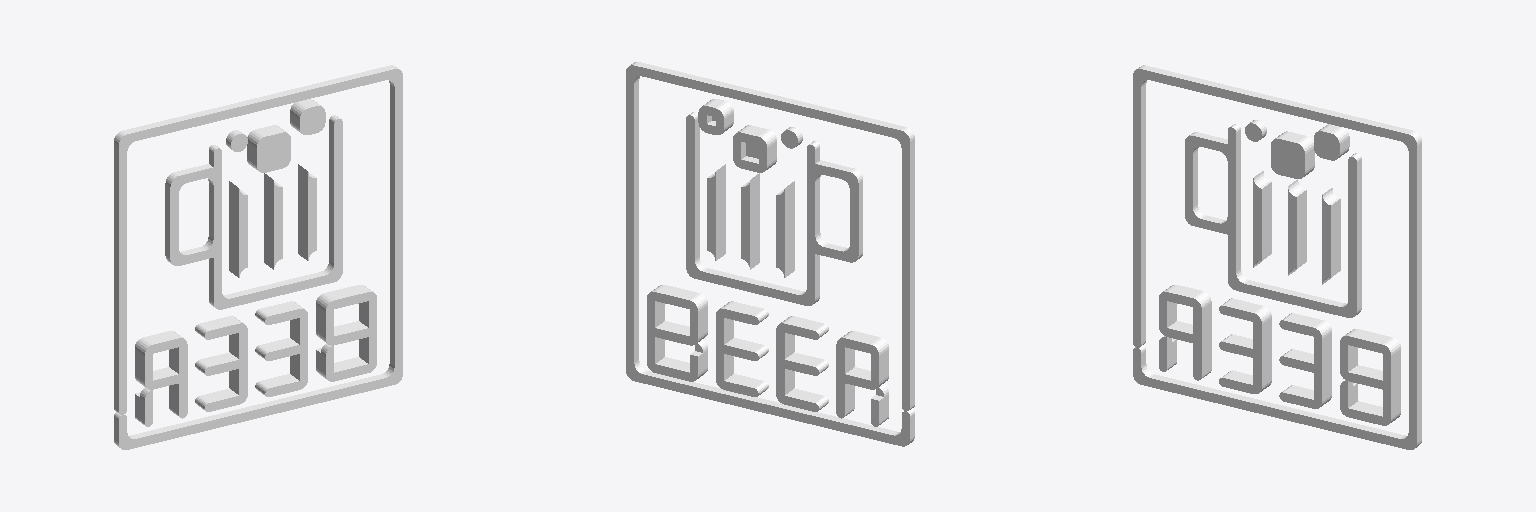
Rendered from Beer.obj.
3 renders of one model, left to right at view 1: azimuth 30°, elevation 25°; view 2: azimuth 150°, elevation 25°; view 3: azimuth 330°, elevation 25°, orthographic.
Bounding box in the file's own units: 33 × 35 × 2.